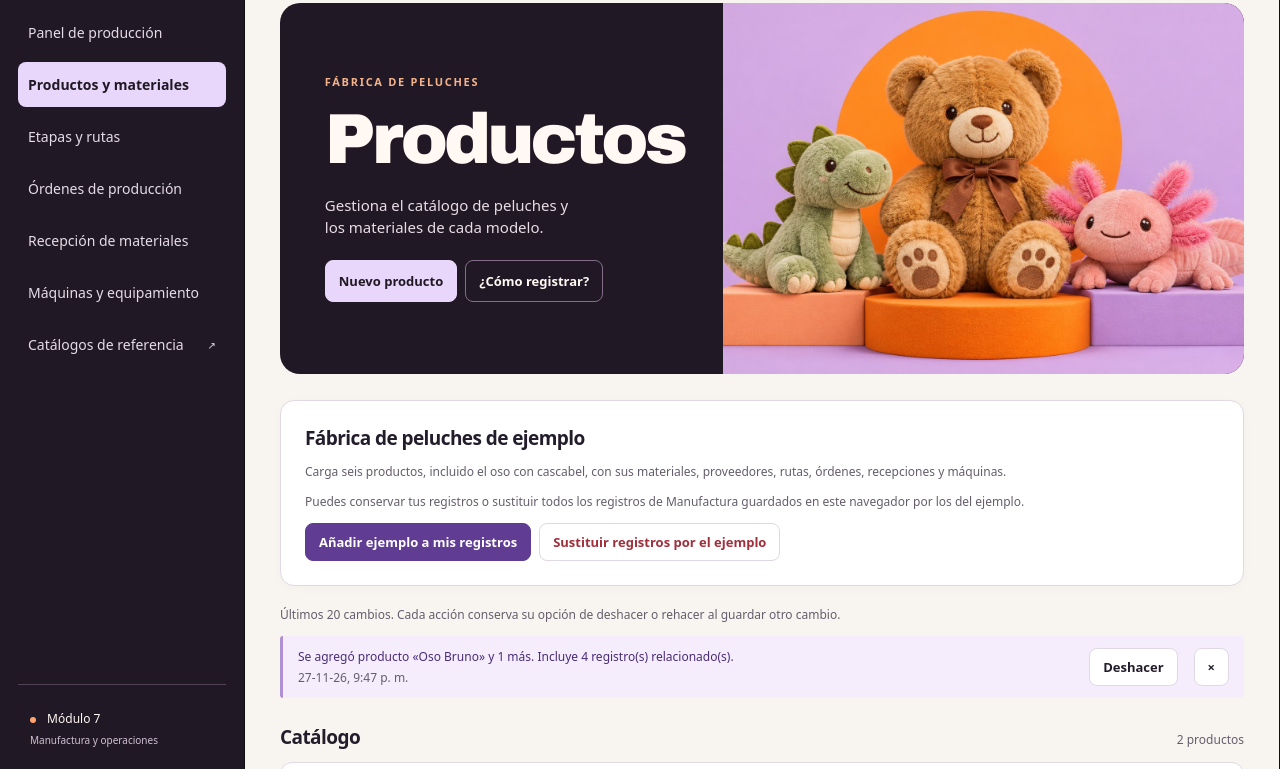
Scenario: muestra gráficos accesibles, filtra el producto y se actualiza al guardar y deshacer
(page scrolled)
Click the button with aria-label "Panel de producción": [122, 32] box x1=18 y1=10 x2=226 y2=55
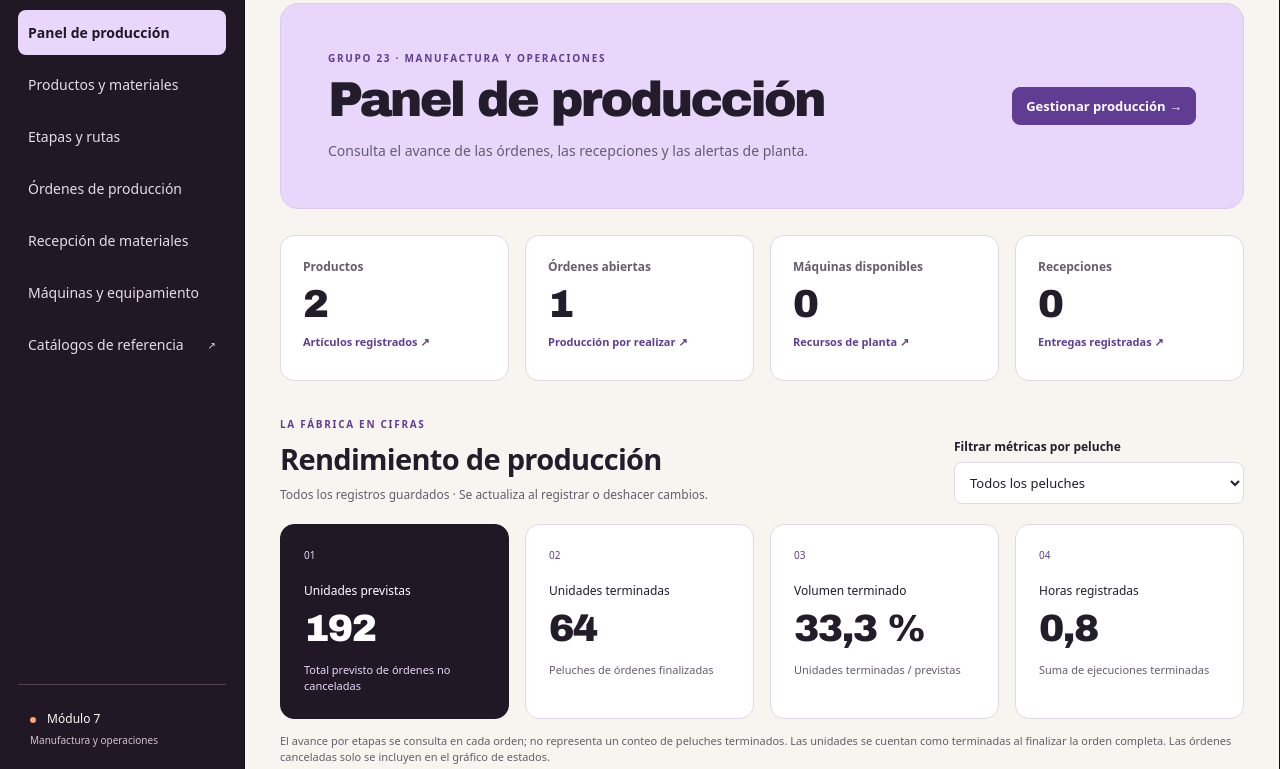
Select "Dino" in the dropdown labelled "Filtrar métricas por peluche": [1099, 483] box x1=954 y1=462 x2=1244 y2=504
(page scrolled)
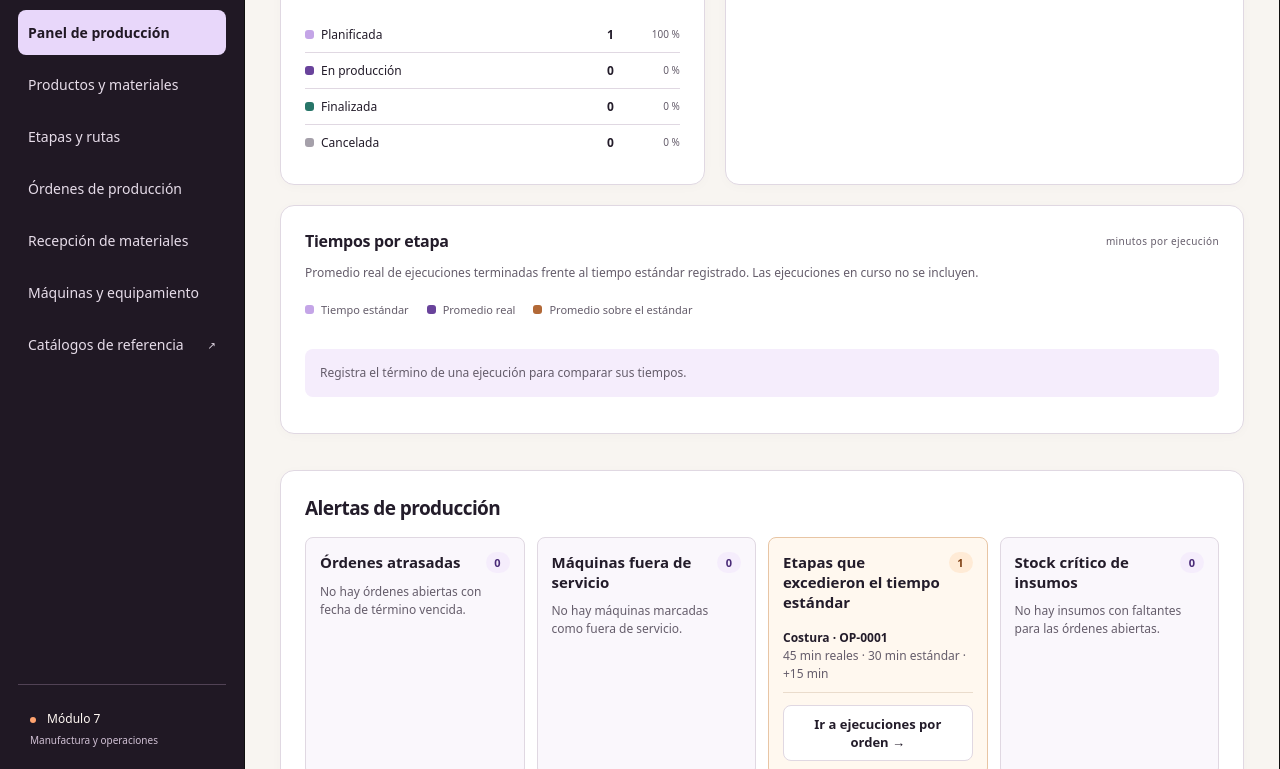
Expected: the text named "Volumen por peluche" does not show "Oso Bruno"
Now the element named "Tiempos por etapa" shows "Registra el término de una ejecución", box x1=320 y1=364 x2=686 y2=381
